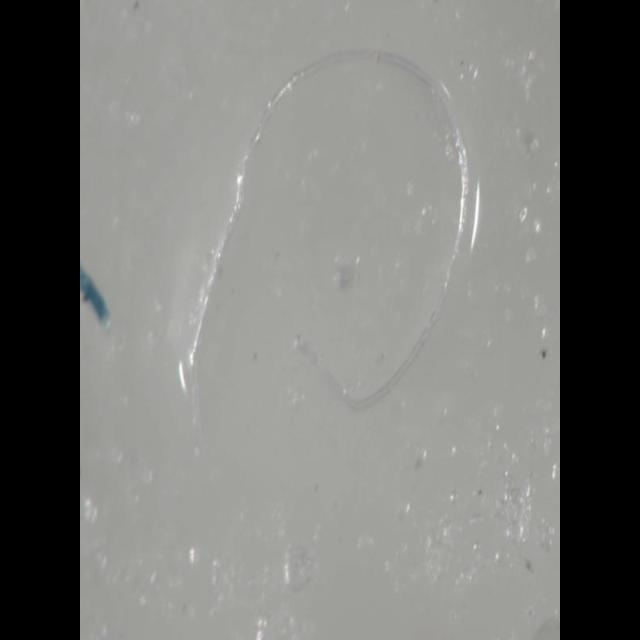Fibre: (173, 49, 484, 473)
